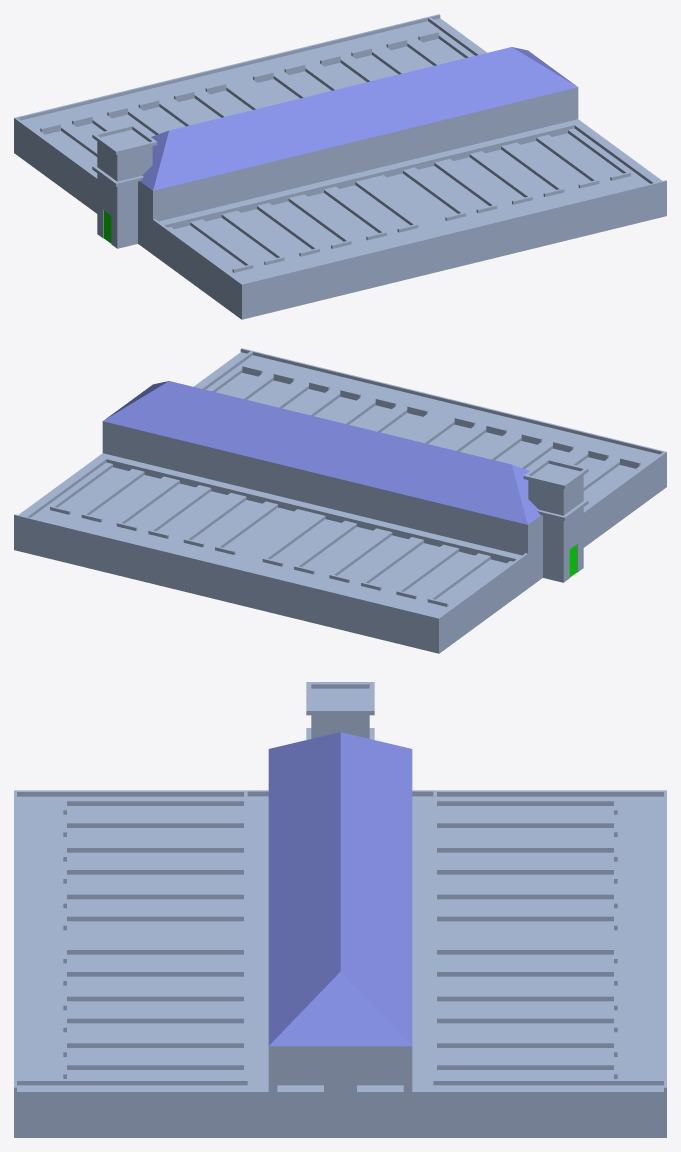
The model's file is C_Filter.glb.
3 views of the same model, one above another, from view 1: azimuth 30°, elevation 25°; view 2: azimuth 150°, elevation 25°; view 3: azimuth 270°, elevation 25° (orthographic). The views are drawn at different scales.
Visible parts, largest first — view 1: Floor1, Roof; view 2: Floor1, Roof; view 3: Floor1, Roof.
Boxes of the visible parts, left/top/right/bottom form: Floor1: left=14, top=14, right=666, bottom=319; Roof: left=92, top=47, right=577, bottom=190; Floor1: left=14, top=348, right=666, bottom=653; Roof: left=103, top=381, right=588, bottom=524; Floor1: left=14, top=790, right=666, bottom=1137; Roof: left=268, top=682, right=412, bottom=1046.
Size of the model in its own units: 58.8 by 12.4 by 51.7.
